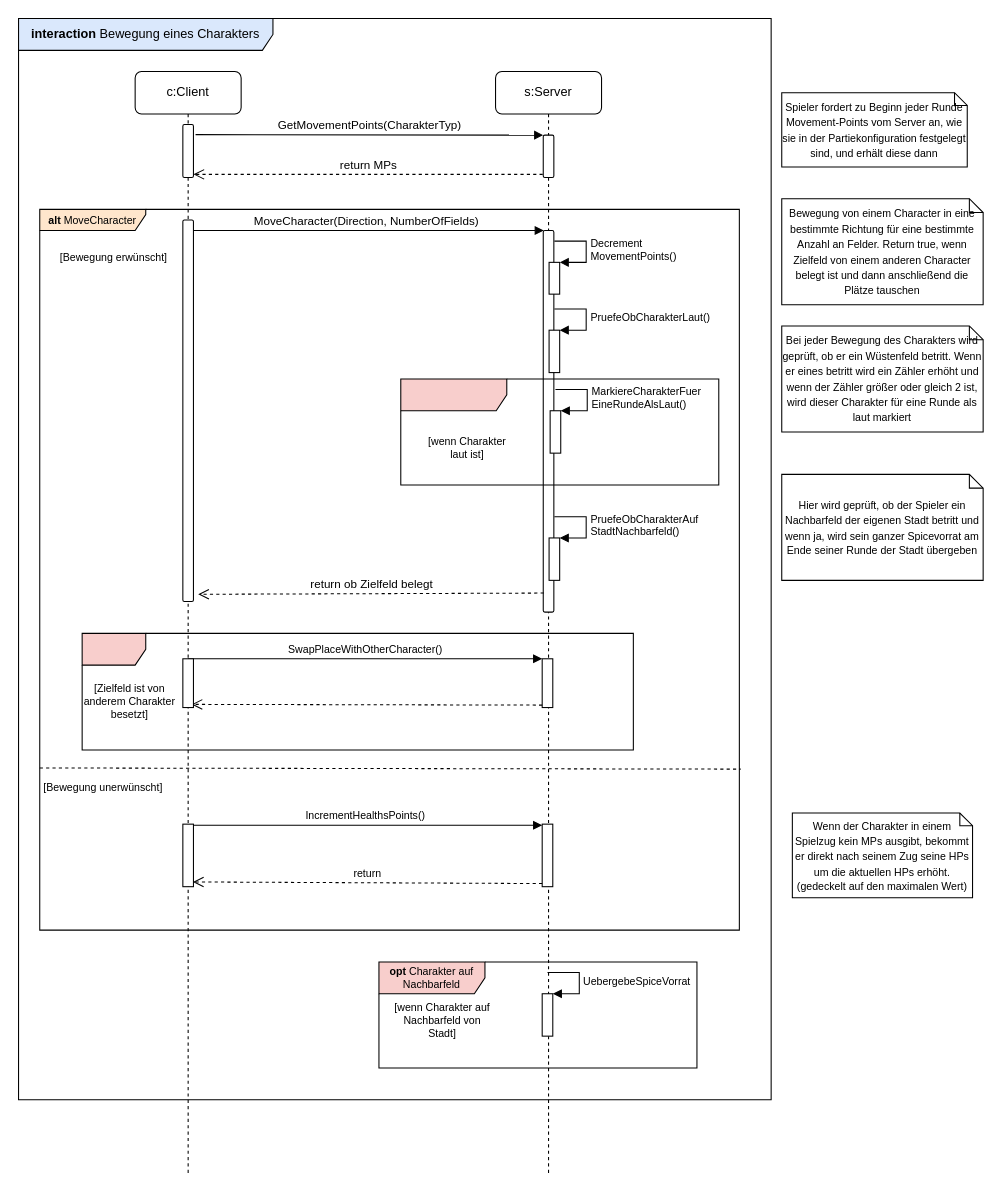
This 1002x1192 diagram has some shape labels left out. The shapes that lost their labels are listed below. From the top down, each one's centre as x and y in pixels, then its label:
At [559,431]: "opt Charakter laut".
At [357,691]: "opt Swap Characters".
